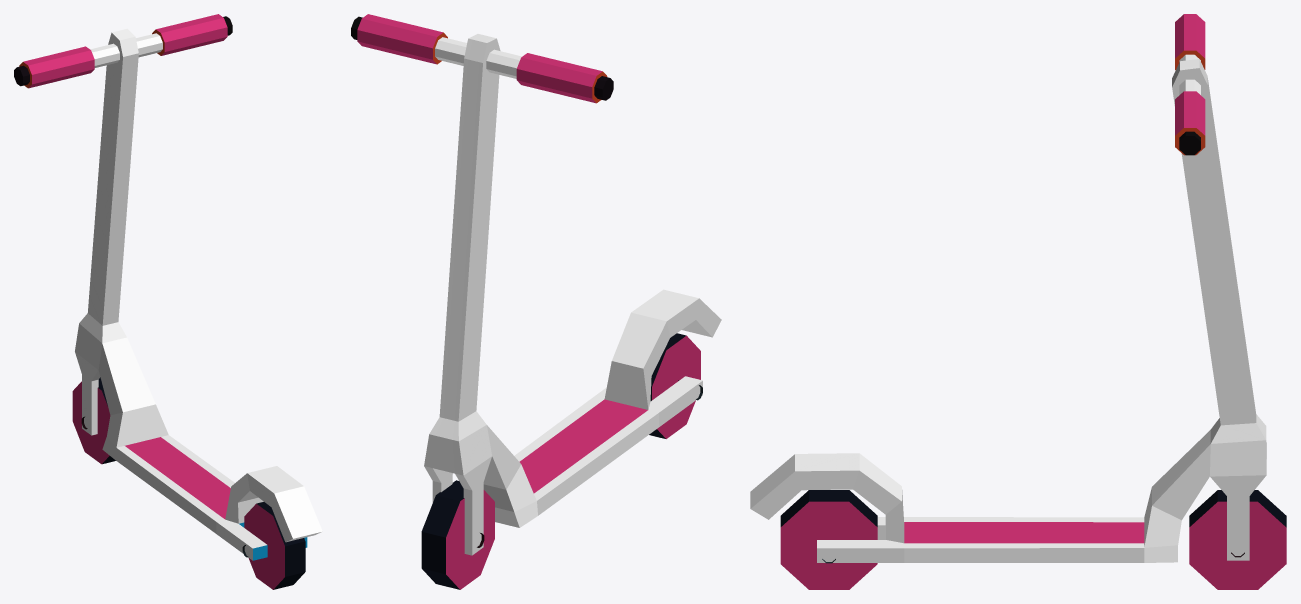
File: Scooter.glb
The picture shows the model from 3 angles, left to right: view 1: azimuth 30°, elevation 25°; view 2: azimuth 150°, elevation 25°; view 3: azimuth 270°, elevation 25°; orthographic projection. The views are drawn at different scales.
Parts seen in each view (by area): view 1: scooter; view 2: scooter; view 3: scooter.
Boxes of the visible parts, box(x1,y1,x2,y2) form: scooter: box(14, 14, 322, 589); scooter: box(351, 14, 721, 589); scooter: box(750, 14, 1286, 589).
Size of the model in its own units: 4.97 by 9.89 by 9.23.
Materials: 1 (1 with a texture image).
